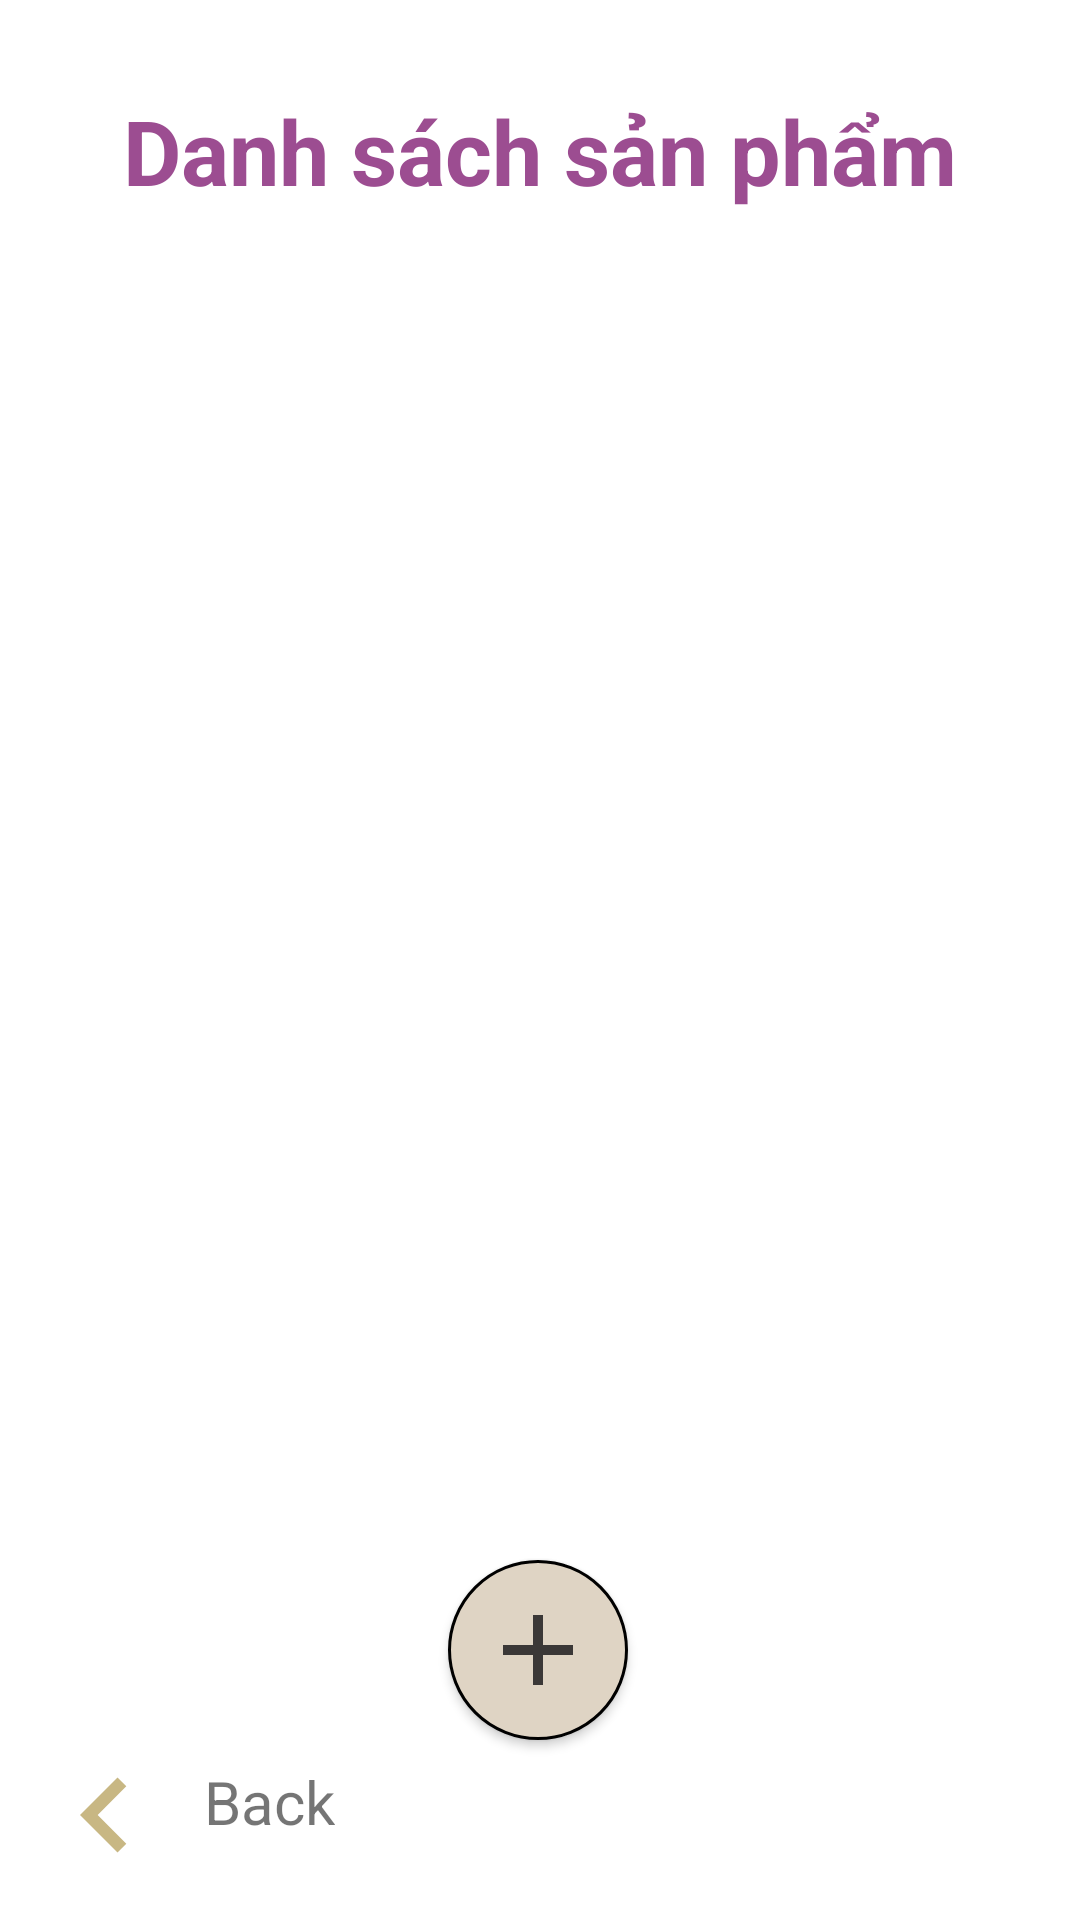

Named icons in this screenshot (1080w x 1920h) and their bounding boxes, bbox=[x1, y1, x2, y2]:
chevron left: bbox=[80, 1777, 126, 1853]
